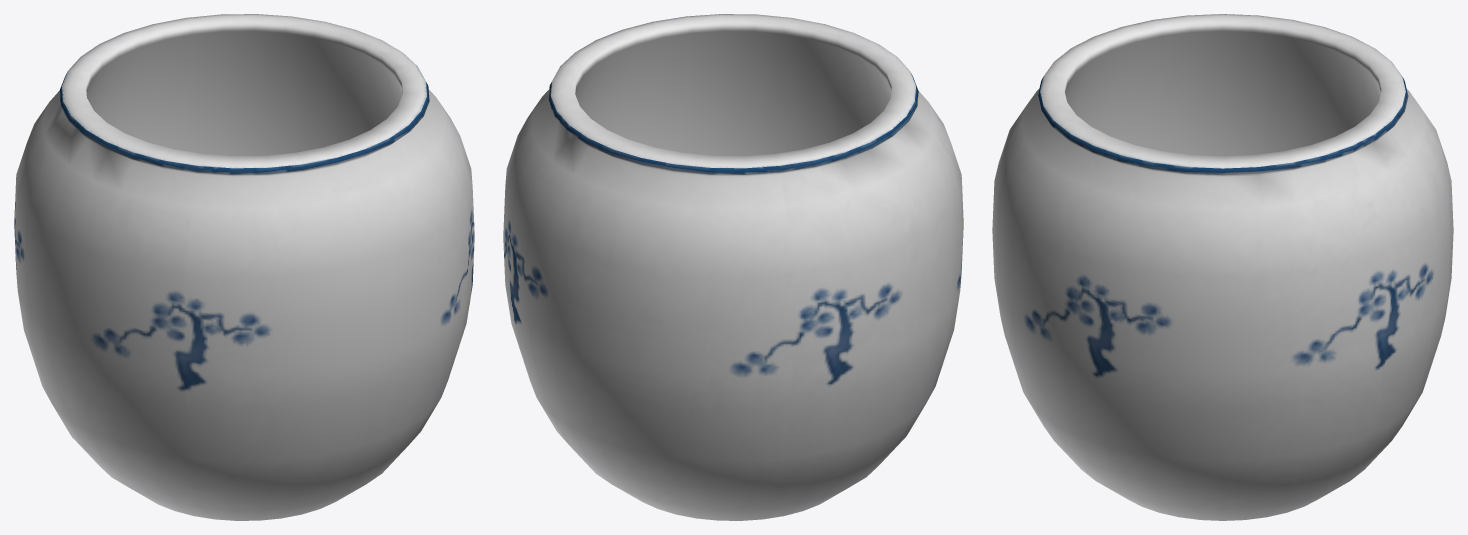
File: jov_porcelain03a.fbx
The picture shows the model from 3 angles, left to right: view 1: azimuth 30°, elevation 25°; view 2: azimuth 150°, elevation 25°; view 3: azimuth 270°, elevation 25°; orthographic projection.
Visible parts, largest first — view 1: jov_porcelain03a; view 2: jov_porcelain03a; view 3: jov_porcelain03a.
Boxes of the visible parts, bbox=[...] form: jov_porcelain03a: bbox=[14, 14, 474, 520]; jov_porcelain03a: bbox=[503, 14, 963, 520]; jov_porcelain03a: bbox=[992, 14, 1453, 520].
Size of the model in its own units: 0.4282 by 0.3926 by 0.4282.
